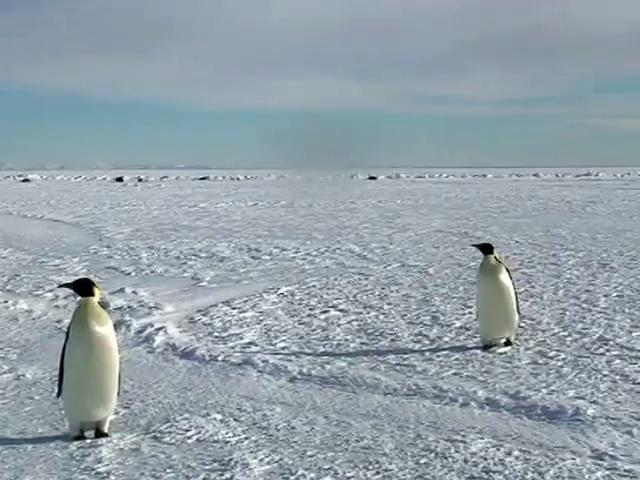animal: (57, 277, 118, 439)
